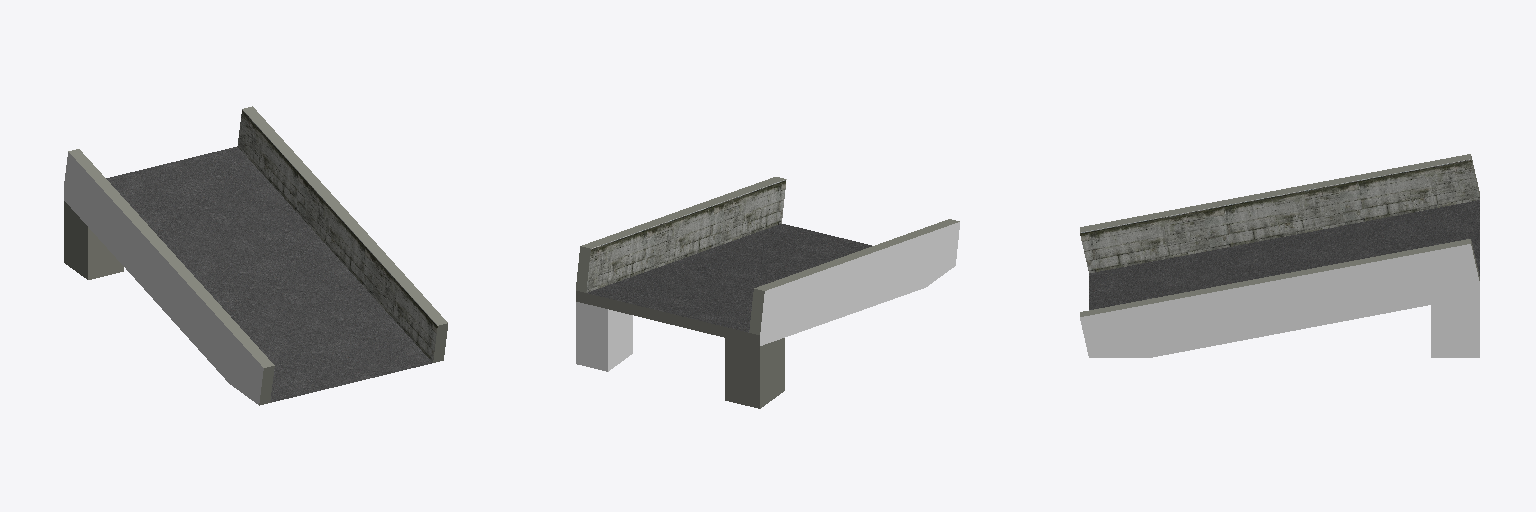
The picture shows the model from 3 angles: view 1: azimuth 30°, elevation 25°; view 2: azimuth 150°, elevation 25°; view 3: azimuth 270°, elevation 25°; orthographic projection.
Parts seen in each view (by area): view 1: Mesh1 Model; view 2: Mesh1 Model; view 3: Mesh1 Model.
Part boxes in pixels (x1,y1,x2,y2): Mesh1 Model: (64,106,447,405); Mesh1 Model: (576,177,959,408); Mesh1 Model: (1080,154,1479,357).
Bounding box in the file's own units: 4.95 × 2.93 × 9.31.
Materials: 6 (3 with a texture image).